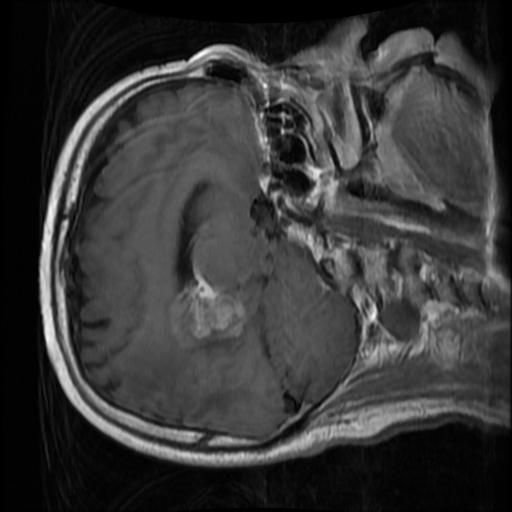glioma: (169, 278, 244, 346)
